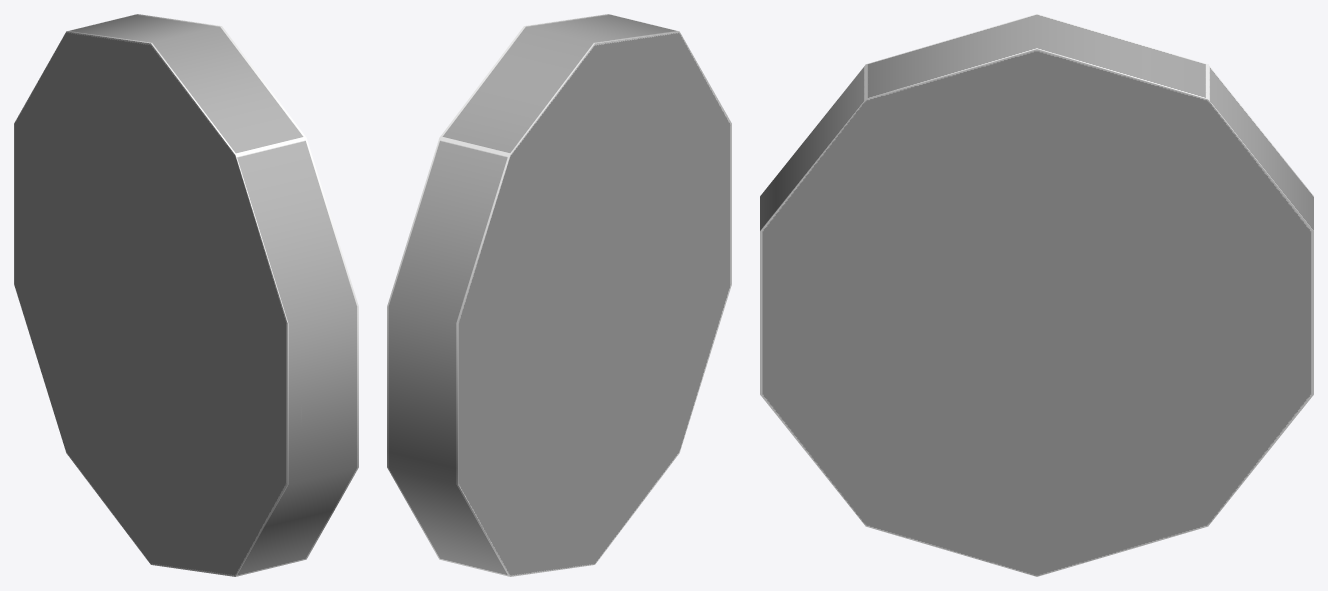
The model's file is Torokko_Wheel.FBX.
The picture shows the model from 3 angles, left to right: view 1: azimuth 30°, elevation 25°; view 2: azimuth 150°, elevation 25°; view 3: azimuth 270°, elevation 25°; orthographic projection.
Parts seen in each view (by area): view 1: Cylinder001; view 2: Cylinder001; view 3: Cylinder001.
Boxes of the visible parts, left/top/right/bottom form: Cylinder001: left=14, top=14, right=358, bottom=576; Cylinder001: left=387, top=14, right=731, bottom=576; Cylinder001: left=760, top=14, right=1313, bottom=576.
Bounding box in the file's own units: 2 × 14 × 13.31.
